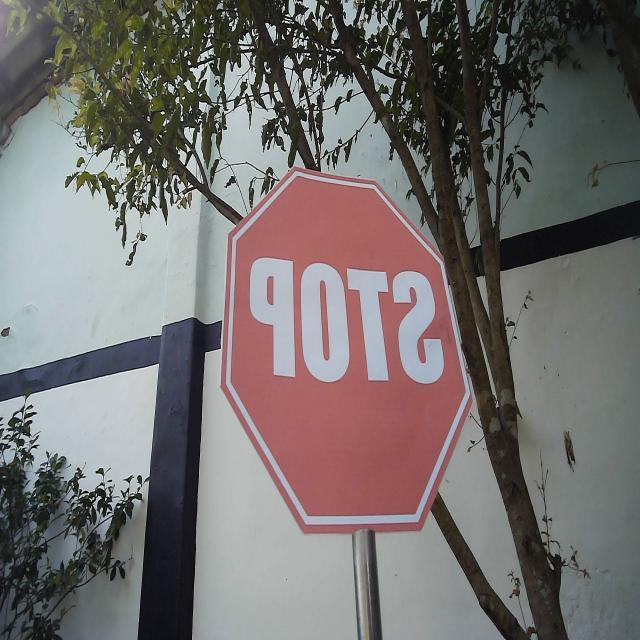stop: (216, 162, 474, 538)
